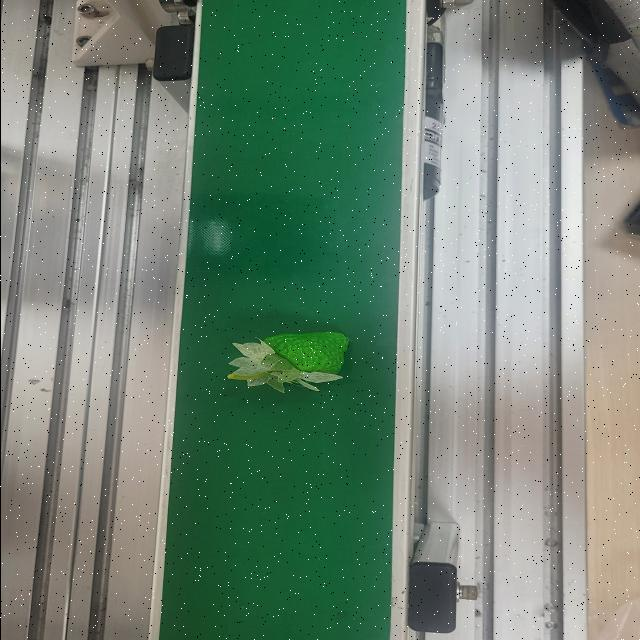Small Unripe Strawberry: (221, 327, 357, 397)
